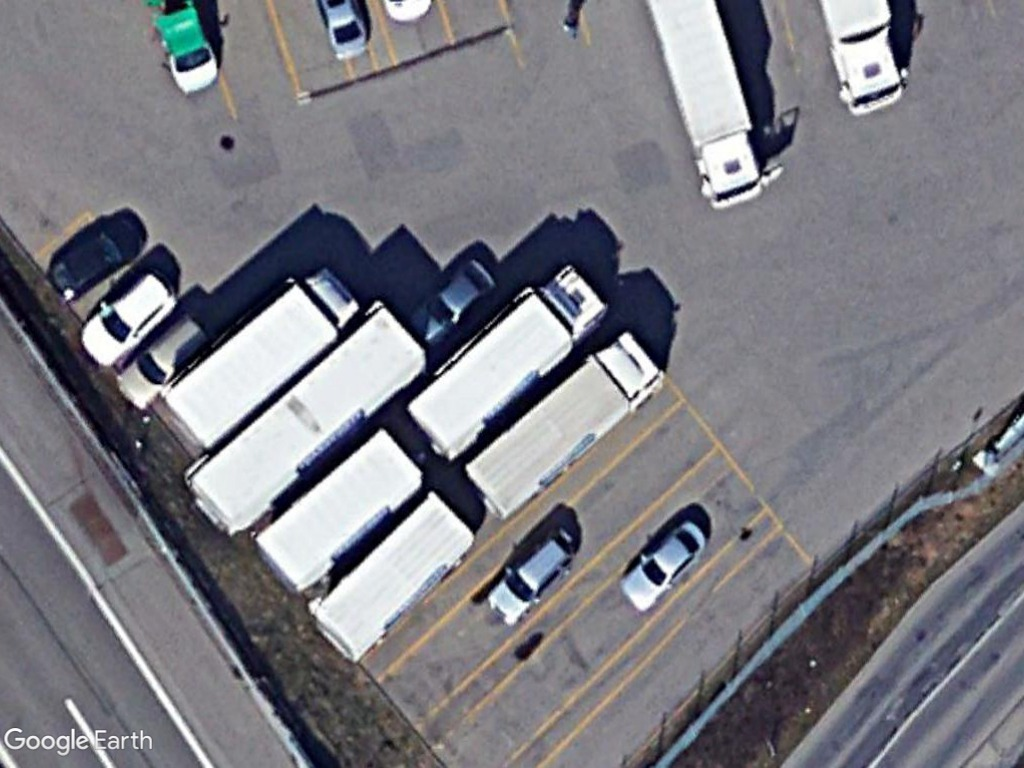car: (77, 265, 182, 368), (116, 309, 215, 411), (484, 524, 584, 622), (618, 517, 707, 614), (407, 254, 499, 346)
truck: (407, 258, 611, 459), (158, 261, 361, 456), (462, 330, 665, 522)
